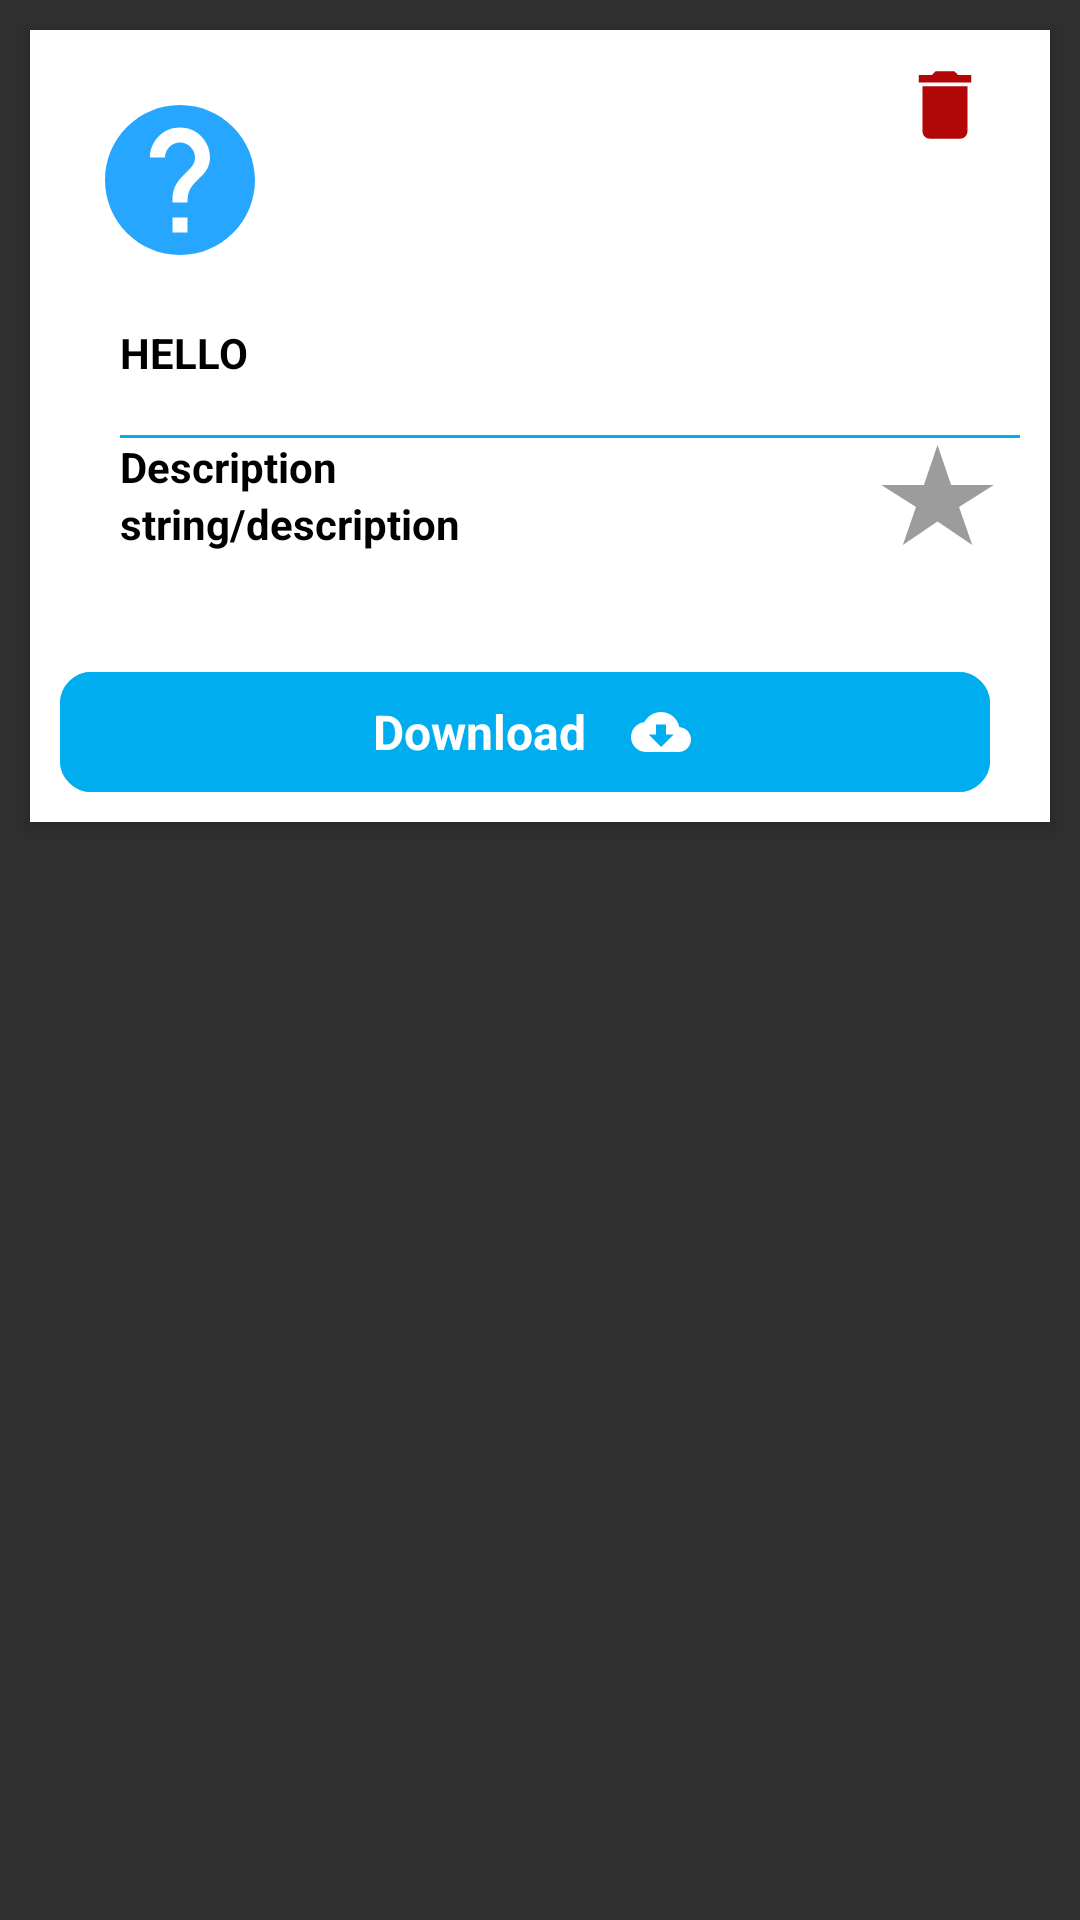

Named icons in this screenshot (1080w x 1920h) and their bounding boxes, (x1, y1, x2, y2):
delete: (918, 71, 972, 139)
favorite: (882, 445, 993, 545)
